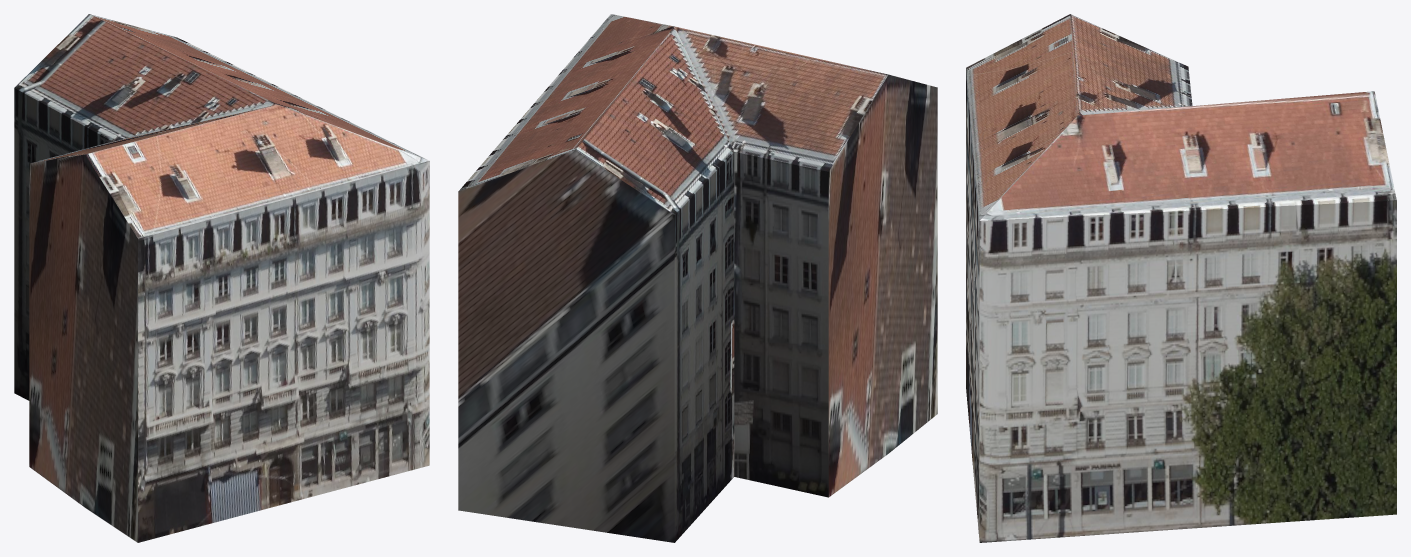
3 views of the same model, side by side, from view 1: azimuth 30°, elevation 25°; view 2: azimuth 150°, elevation 25°; view 3: azimuth 270°, elevation 25° (orthographic). The views are drawn at different scales.
Visible parts, largest first — view 1: Z_UP; view 2: Z_UP; view 3: Z_UP.
Boxes of the visible parts, bbox=[...] form: Z_UP: bbox=[14, 14, 429, 542]; Z_UP: bbox=[458, 14, 937, 542]; Z_UP: bbox=[966, 14, 1396, 542].
Bounding box in the file's own units: 24.25 × 27.14 × 28.37.
Materials: 2 (1 with a texture image).
